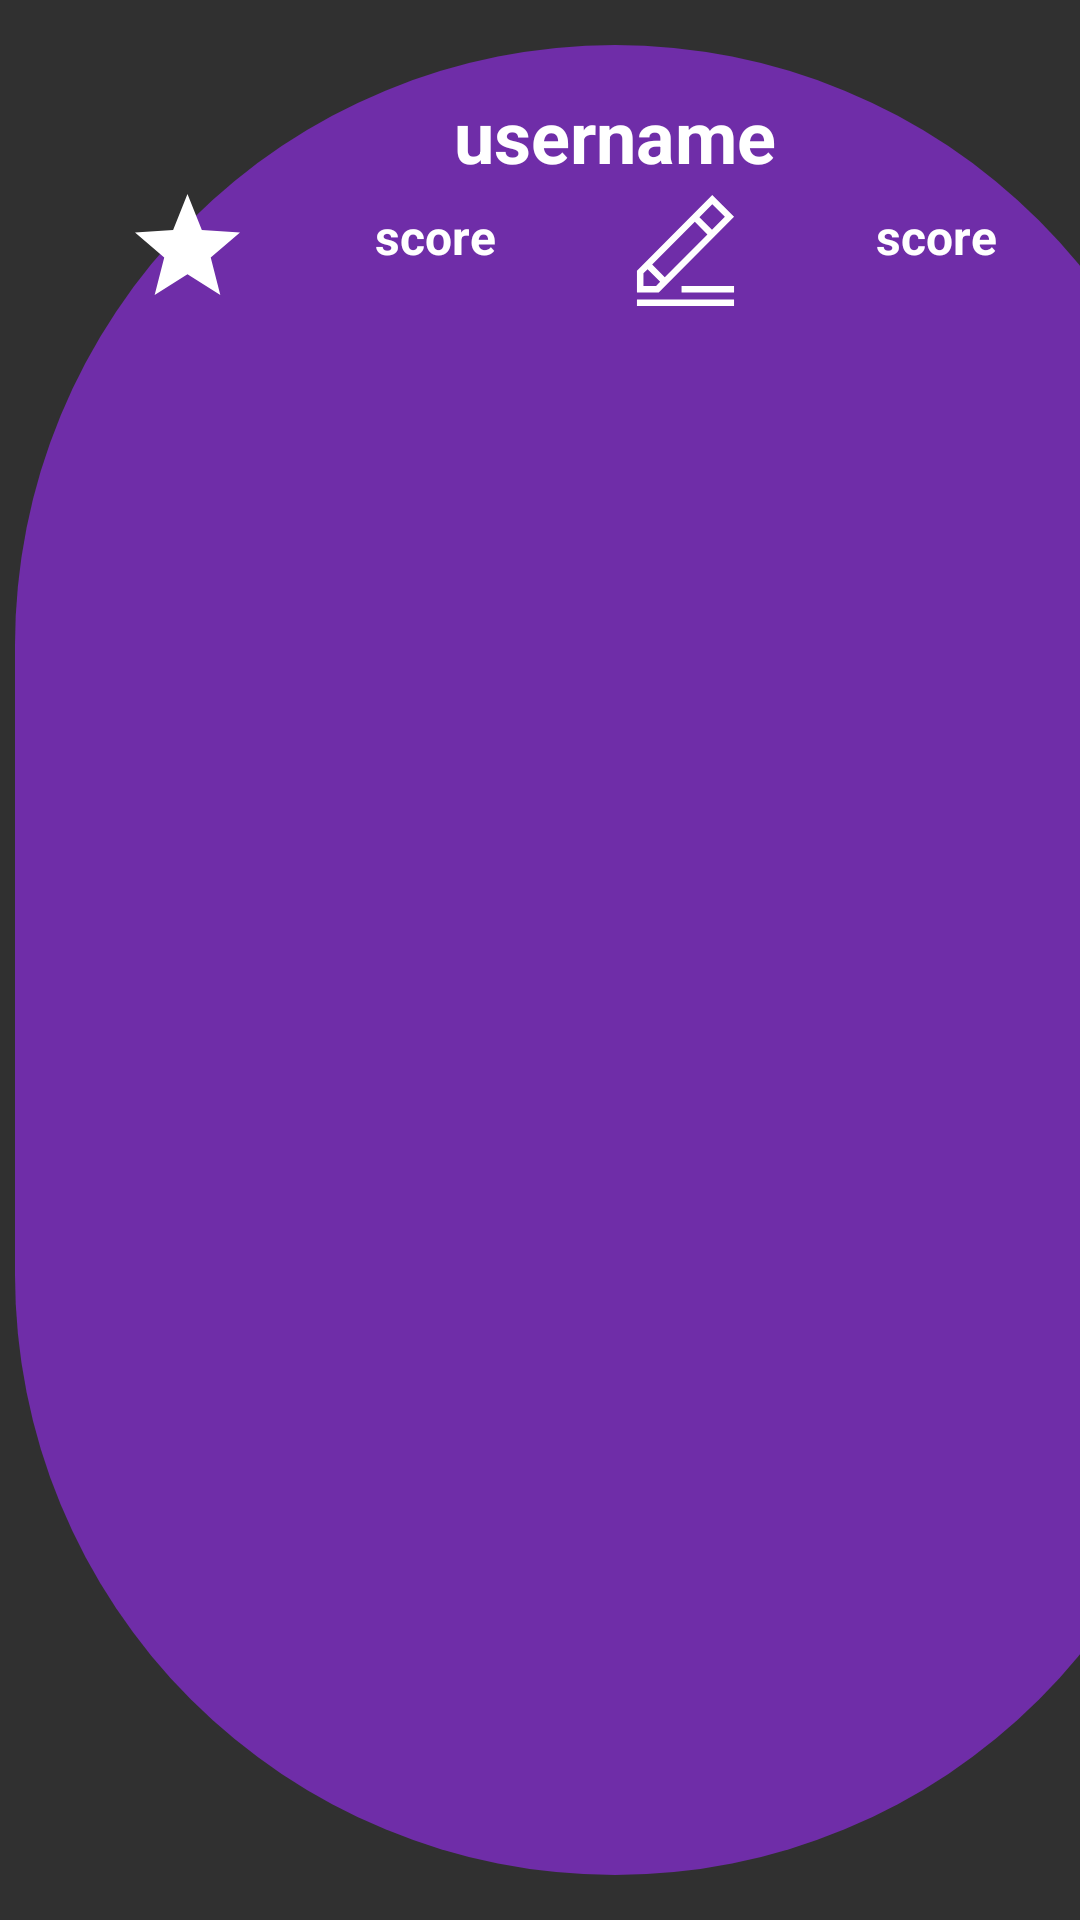

Where to tap for icons on this 1080 x 1920 app screen, as [x,y]:
pen line: [685,250]
star: [187,244]
